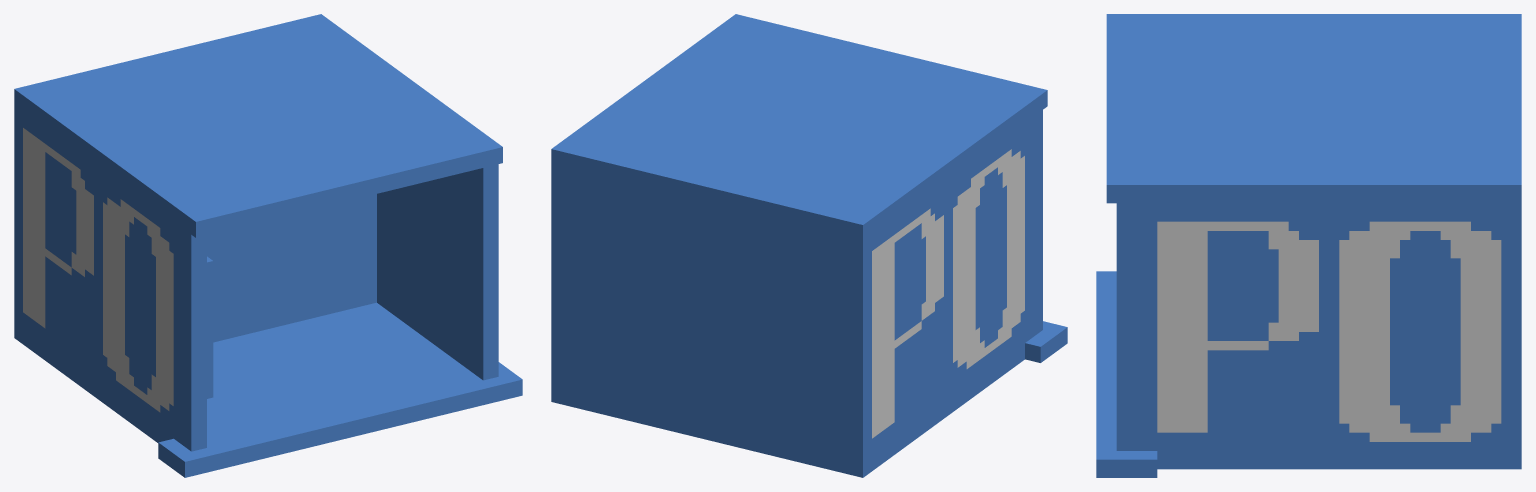
Rendered from BoxMail.fbx.
3 renders of one model, left to right at view 1: azimuth 30°, elevation 25°; view 2: azimuth 150°, elevation 25°; view 3: azimuth 270°, elevation 25°, orthographic. The views are drawn at different scales.
Visible parts, largest first — view 1: Box; view 2: Box; view 3: Box.
Boxes of the visible parts, <box> form: Box: <box>14,14,522,477</box>; Box: <box>551,14,1067,477</box>; Box: <box>1096,14,1521,477</box>.
Size of the model in its own units: 4.4 by 3.1 by 4.2.
